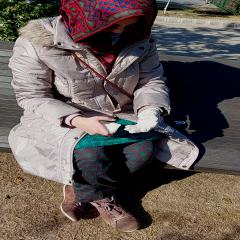gloved: (125, 107, 158, 134)
not-gloved: (71, 114, 117, 138)
